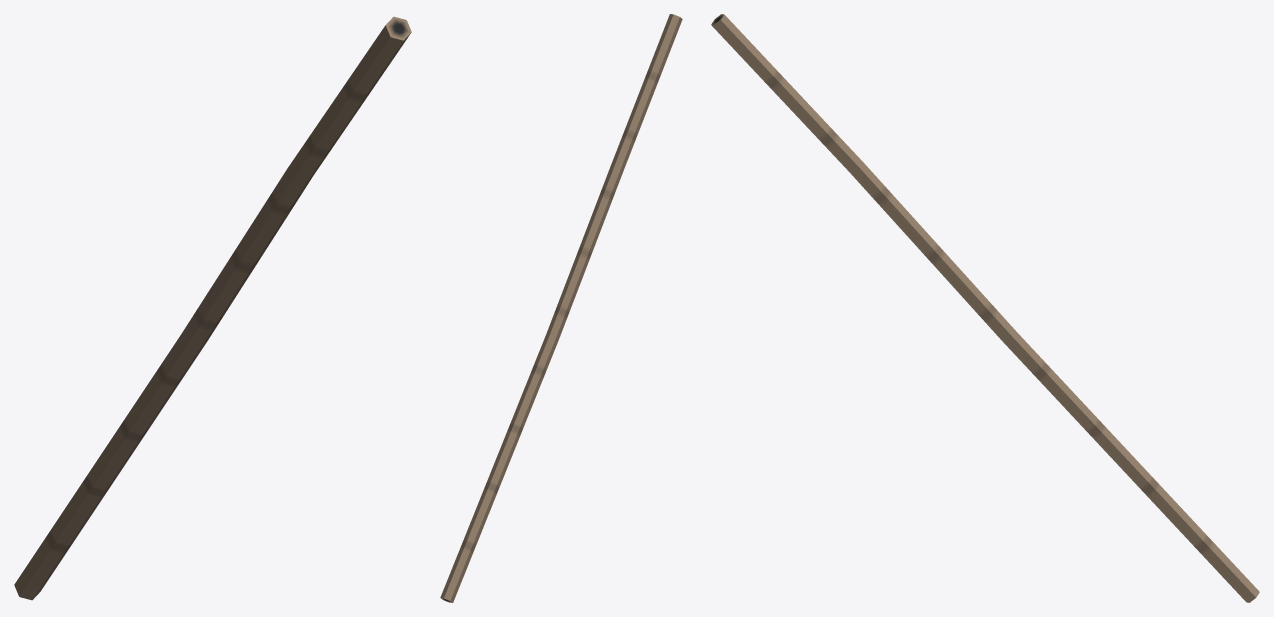
3 renders of one model, left to right at view 1: azimuth 30°, elevation 25°; view 2: azimuth 150°, elevation 25°; view 3: azimuth 270°, elevation 25°, orthographic. The views are drawn at different scales.
Parts seen in each view (by area): view 1: se-bo-01; view 2: se-bo-01; view 3: se-bo-01.
Part boxes in pixels (x1=…): se-bo-01: x1=14, y1=16, x2=411, y2=600; se-bo-01: x1=440, y1=14, x2=682, y2=602; se-bo-01: x1=711, y1=14, x2=1259, y2=602.
Size of the model in its own units: 0.1362 by 1.79 by 1.55.
Materials: 1 (1 with a texture image).
